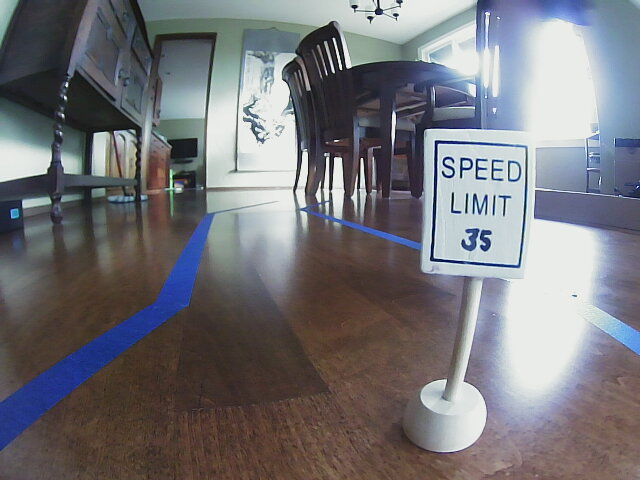SpeedLimit35: (424, 130, 525, 277)
